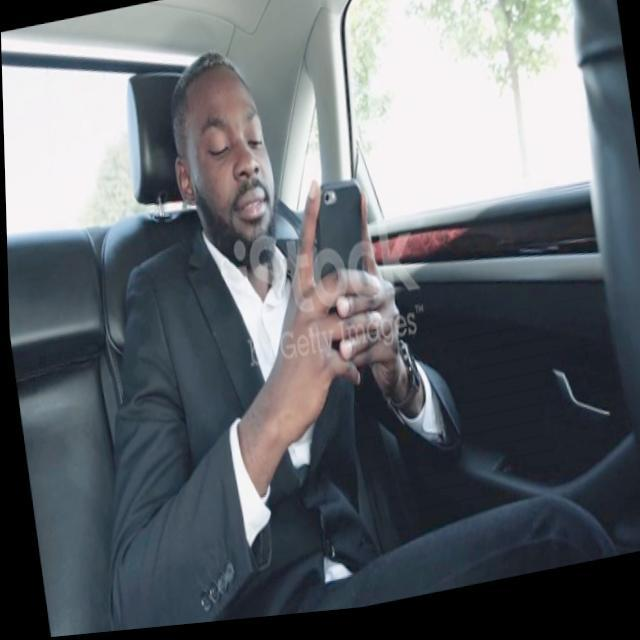PhoneCall: (310, 180, 376, 330)
